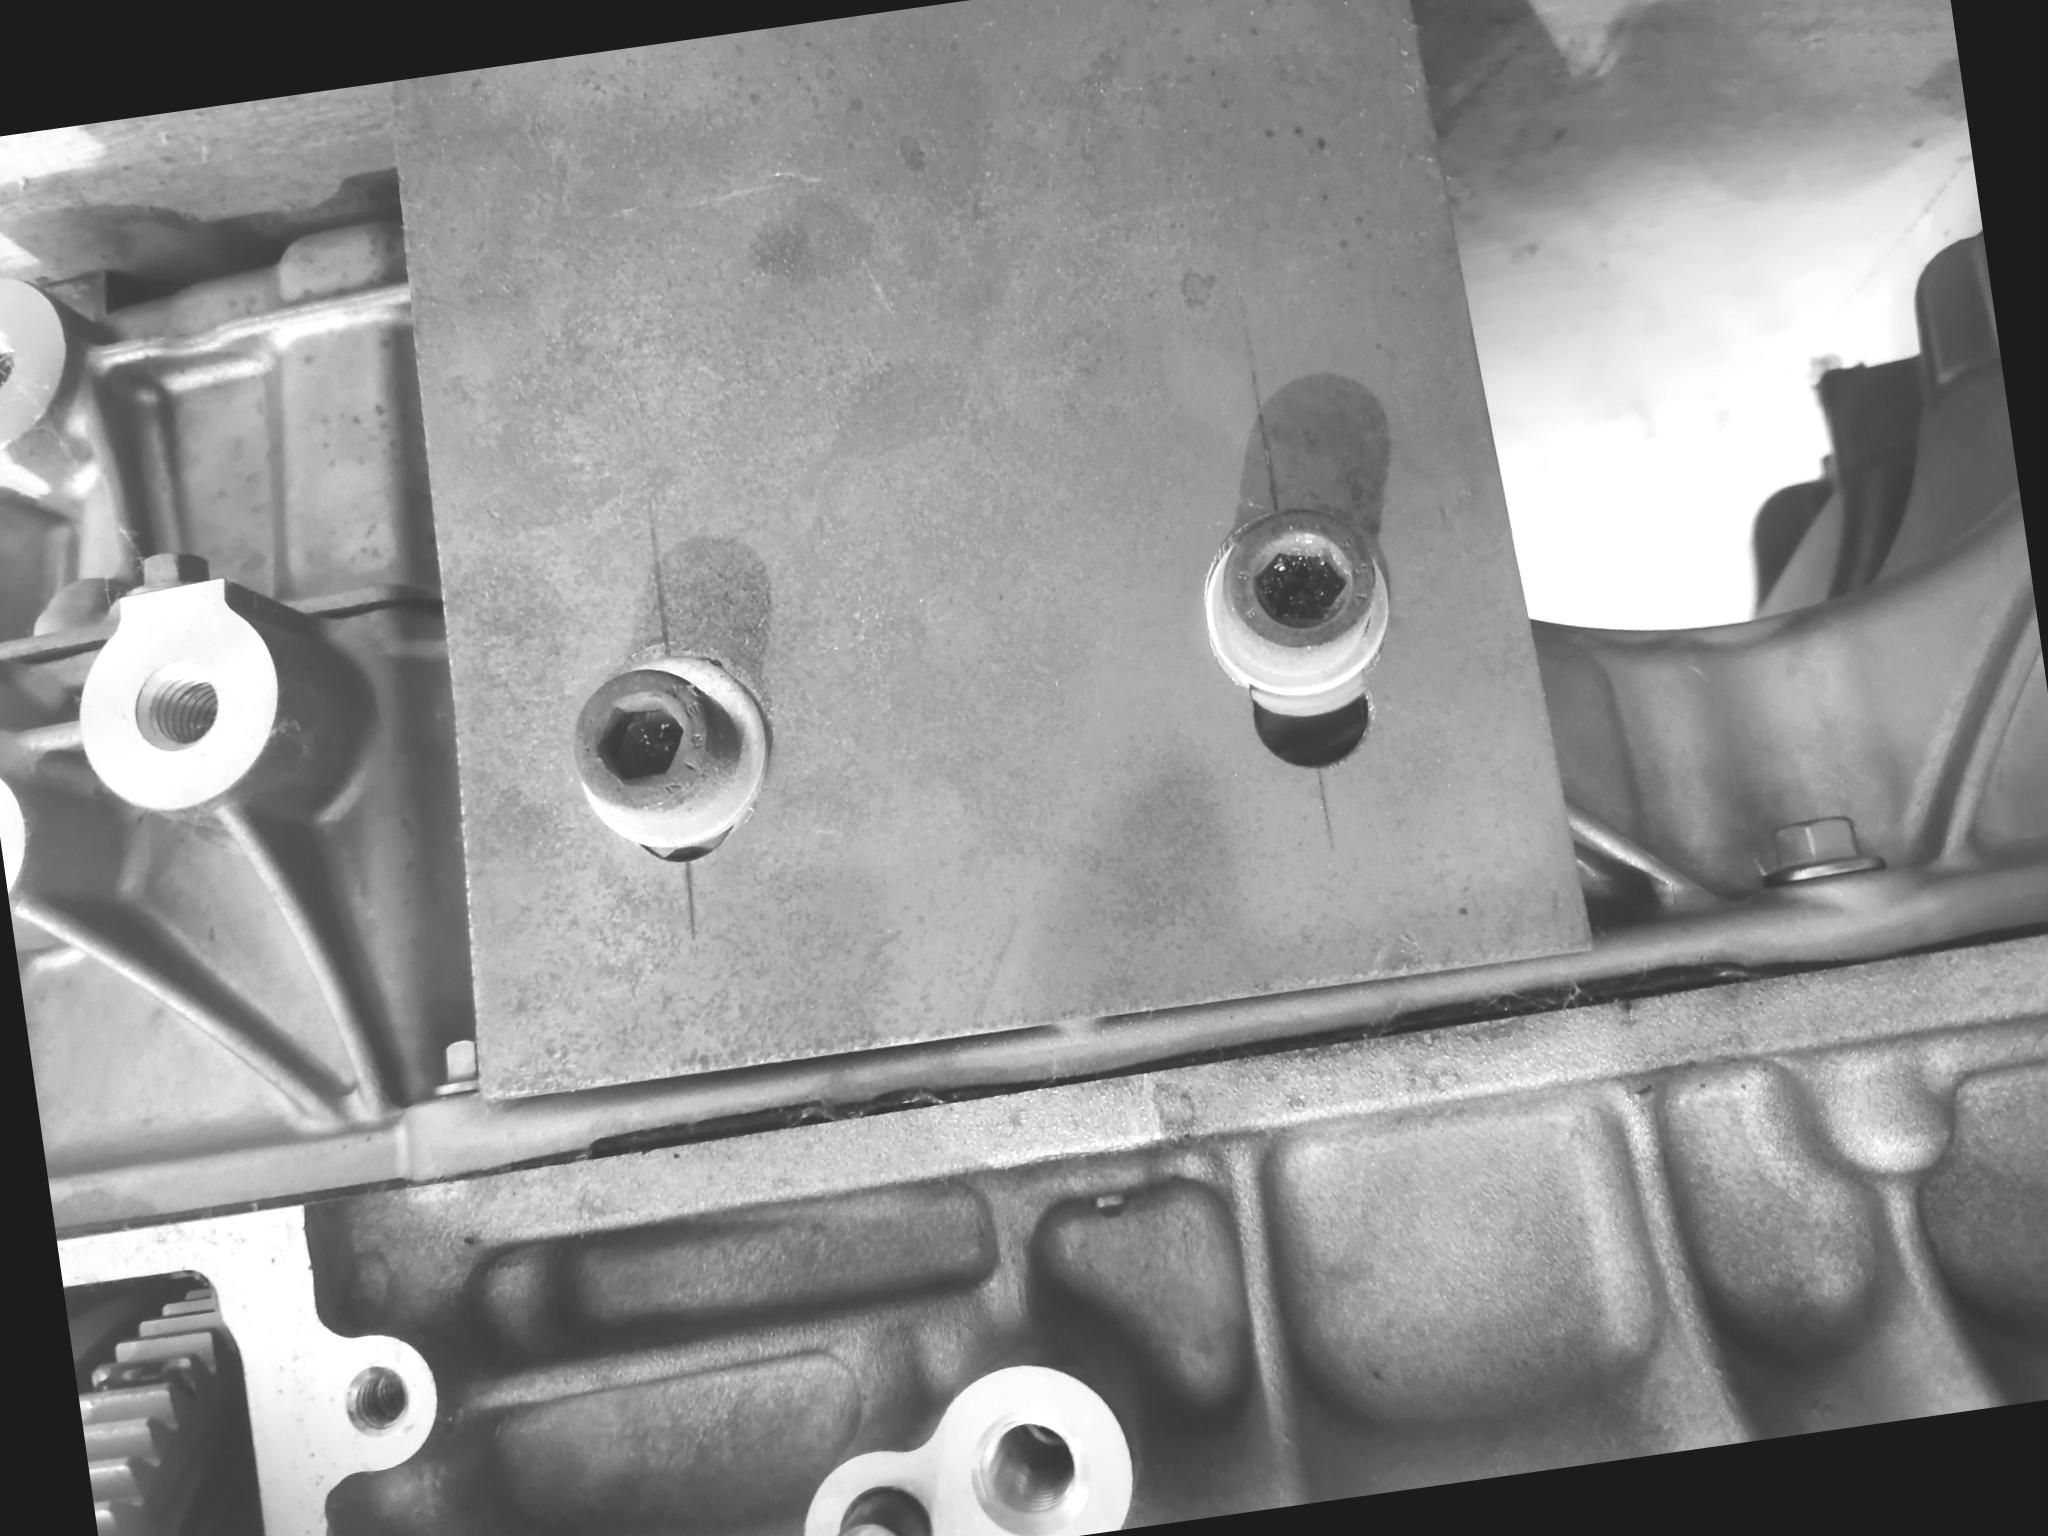allen: (1197, 490, 1403, 684), (553, 652, 761, 842)
